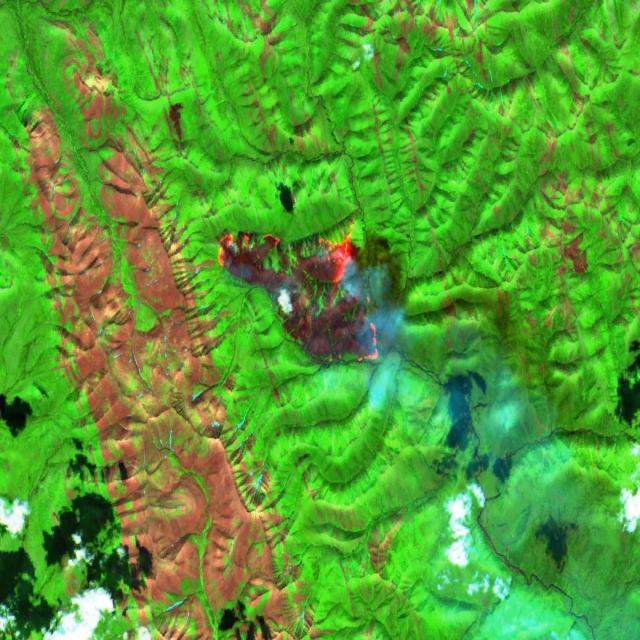fire: (215, 215, 383, 365)
